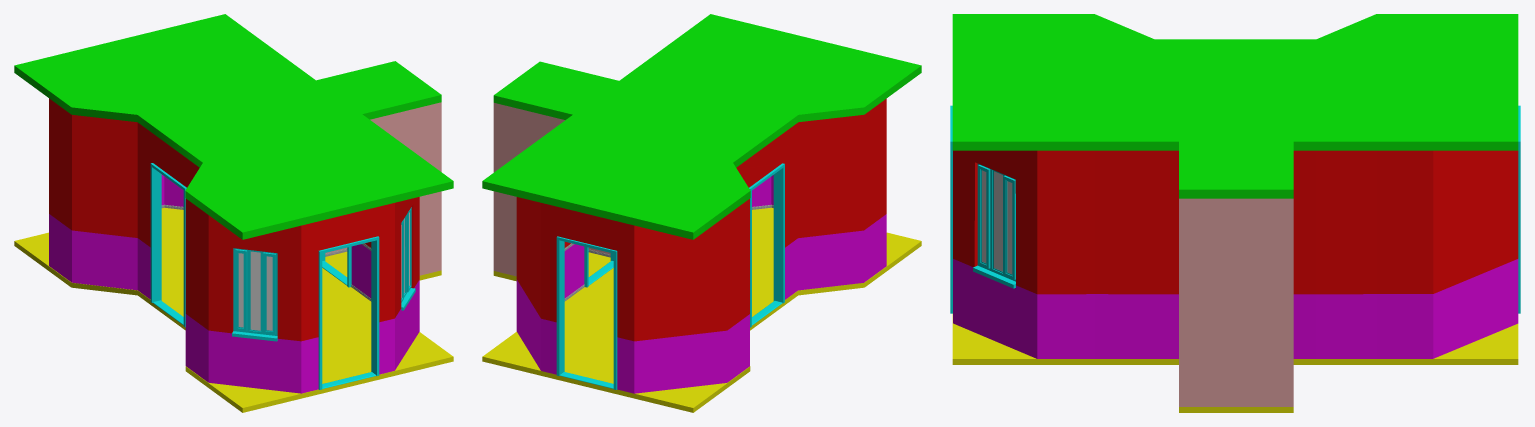
File: FloorPlan506_physics.fbx
3 views of the same model, side by side, from view 1: azimuth 30°, elevation 25°; view 2: azimuth 150°, elevation 25°; view 3: azimuth 270°, elevation 25° (orthographic). The views are drawn at different scales.
Visible parts, largest first — view 1: FP506:Ceiling_1, FP506:Walls_1, FP506:Floor_1, FP506:Walls_2, FP506:Ceiling_2, FP506:WindowFrame_1, FP506:DoorFrame_4, FP506:DoorFrame_1, FP506:WindowPane_1, FP506:WindowFrame_2, FP506:Floor_2; view 2: FP506:Walls_1, FP506:Ceiling_1, FP506:Floor_1, FP506:Walls_2, FP506:Ceiling_2, FP506:DoorFrame_3, FP506:DoorFrame_4, FP506:Floor_2; view 3: FP506:Walls_1, FP506:Ceiling_1, FP506:Walls_2, FP506:Ceiling_2, FP506:Floor_1, FP506:WindowFrame_2, FP506:WindowPane_2, FP506:Floor_2, FP506:DoorFrame_1, FP506:DoorFrame_3.
Part boxes in pixels (left/top/right/bottom): FP506:Ceiling_1: left=14, top=14, right=453, bottom=239; FP506:Walls_1: left=49, top=98, right=419, bottom=393; FP506:Floor_1: left=14, top=207, right=453, bottom=412; FP506:Walls_2: left=325, top=102, right=441, bottom=275; FP506:Ceiling_2: left=316, top=61, right=441, bottom=119; FP506:WindowFrame_1: left=232, top=248, right=277, bottom=341; FP506:DoorFrame_4: left=150, top=163, right=186, bottom=327; FP506:DoorFrame_1: left=318, top=236, right=379, bottom=389; FP506:WindowPane_1: left=238, top=251, right=272, bottom=330; FP506:WindowFrame_2: left=401, top=207, right=415, bottom=310; FP506:Floor_2: left=325, top=251, right=441, bottom=280; FP506:Walls_1: left=516, top=98, right=886, bottom=393; FP506:Ceiling_1: left=482, top=14, right=921, bottom=239; FP506:Floor_1: left=482, top=207, right=921, bottom=412; FP506:Walls_2: left=493, top=103, right=610, bottom=276; FP506:Ceiling_2: left=493, top=61, right=618, bottom=119; FP506:DoorFrame_3: left=556, top=236, right=617, bottom=389; FP506:DoorFrame_4: left=749, top=163, right=784, bottom=327; FP506:Floor_2: left=493, top=252, right=610, bottom=281; FP506:Walls_1: left=953, top=150, right=1518, bottom=358; FP506:Ceiling_1: left=952, top=14, right=1518, bottom=150; FP506:Walls_2: left=1179, top=198, right=1293, bottom=406; FP506:Ceiling_2: left=1179, top=141, right=1293, bottom=198; FP506:Floor_1: left=952, top=314, right=1518, bottom=364; FP506:WindowFrame_2: left=973, top=163, right=1015, bottom=288; FP506:WindowPane_2: left=982, top=170, right=1012, bottom=273; FP506:Floor_2: left=1179, top=407, right=1293, bottom=412; FP506:DoorFrame_1: left=950, top=105, right=952, bottom=313; FP506:DoorFrame_3: left=1518, top=105, right=1520, bottom=313.
Bounding box in the file's own units: 452 × 268 × 620.
